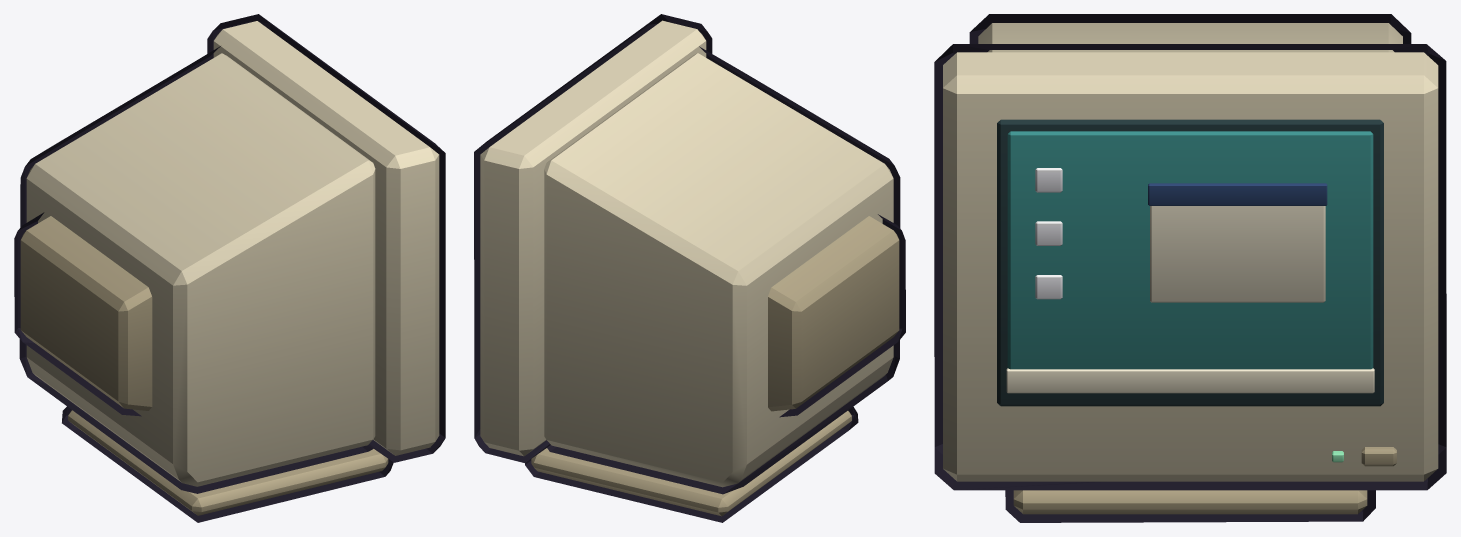
Rendered from CRT_Monitor_Outline.fbx.
The picture shows the model from 3 angles, left to right: view 1: azimuth 30°, elevation 25°; view 2: azimuth 150°, elevation 25°; view 3: azimuth 270°, elevation 25°; orthographic projection. The views are drawn at different scales.
Visible parts, largest first — view 1: CRT_Monitor; view 2: CRT_Monitor; view 3: CRT_Monitor.
Part boxes in pixels (x1,y1,x2,y2): CRT_Monitor: [14, 14, 445, 522]; CRT_Monitor: [474, 14, 905, 522]; CRT_Monitor: [934, 14, 1446, 522].
Bounding box in the file's own units: 1.8 × 1.98 × 1.96.
1 material, 1 textured.
